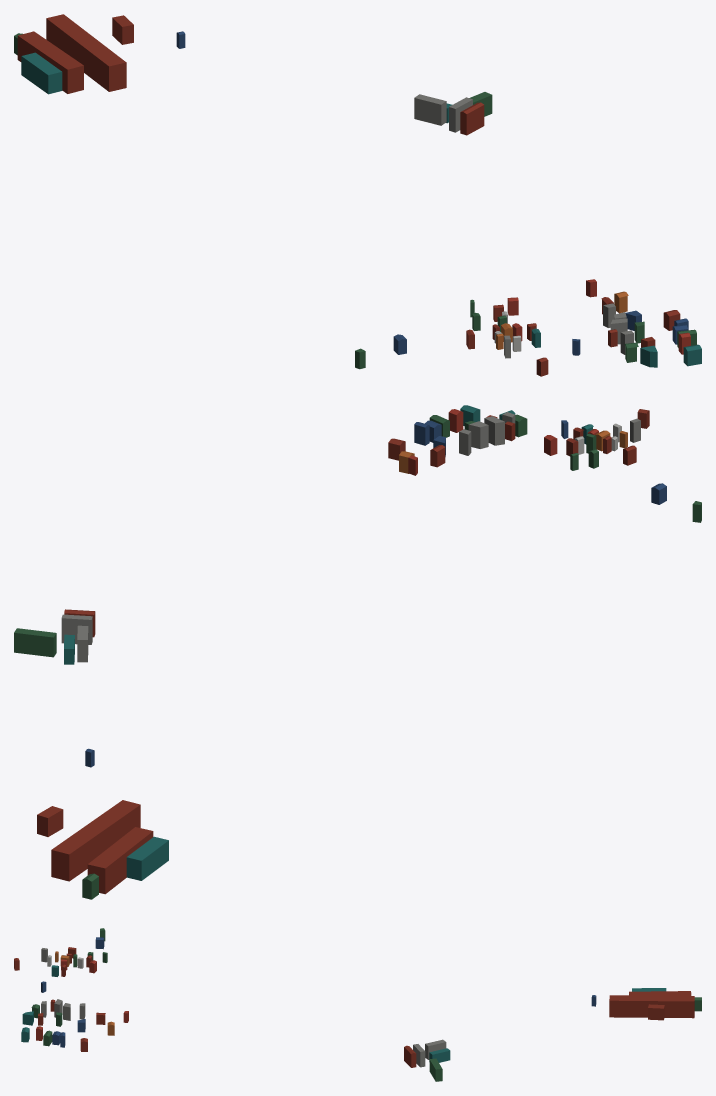
File: near-15-27350-14881.e4afc807.glb
3 renders of one model, top to bottom at view 1: azimuth 30°, elevation 25°; view 2: azimuth 150°, elevation 25°; view 3: azimuth 270°, elevation 25°, orthographic. The views are drawn at different scales.
Bounding box in the file's own units: 477 × 102 × 1112.
